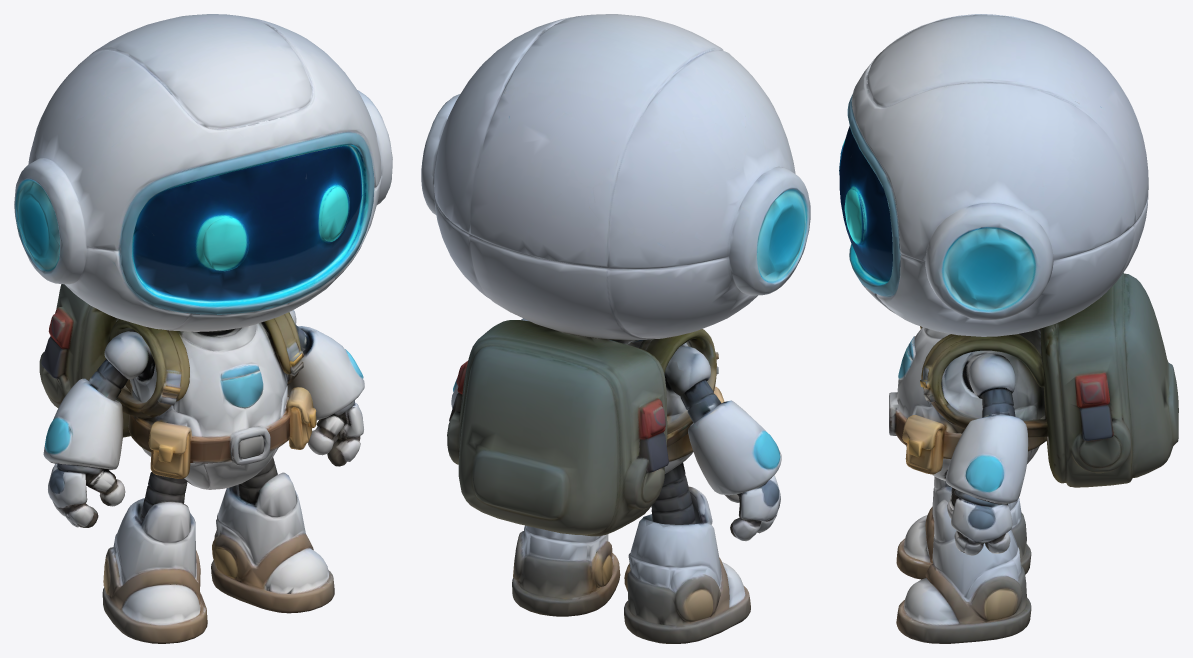
File: robot.glb
3 renders of one model, left to right at view 1: azimuth 30°, elevation 25°; view 2: azimuth 150°, elevation 25°; view 3: azimuth 270°, elevation 25°, orthographic. The views are drawn at different scales.
Parts seen in each view (by area): view 1: node_0; view 2: node_0; view 3: node_0.
Part boxes in pixels (x1,y1,x2,y2): node_0: (14,14,392,643); node_0: (421,14,810,643); node_0: (839,14,1178,643).
Size of the model in its own units: 0.6838 by 1.09 by 0.5988.
Materials: 1 (1 with a texture image).
